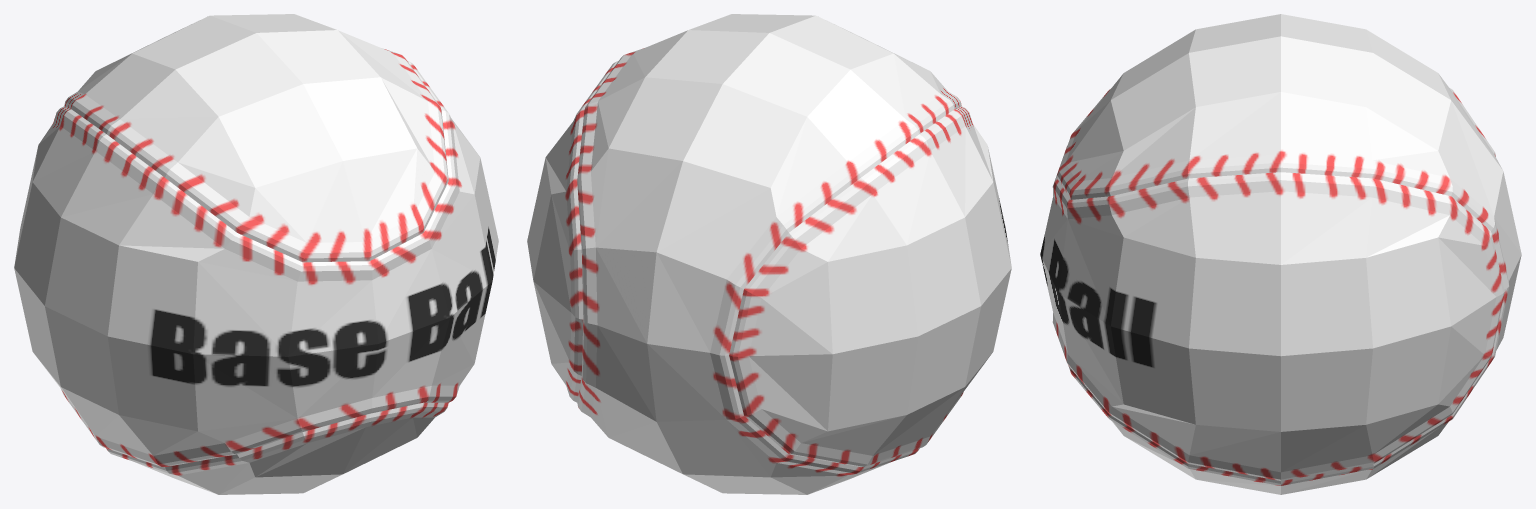
Rendered from BaseBall.fbx.
The picture shows the model from 3 angles, left to right: view 1: azimuth 30°, elevation 25°; view 2: azimuth 150°, elevation 25°; view 3: azimuth 270°, elevation 25°; orthographic projection.
Parts seen in each view (by area): view 1: Mesh; view 2: Mesh; view 3: Mesh.
Boxes of the visible parts, x1,y1,x2,y2 form: Mesh: (14,14,498,494); Mesh: (527,14,1011,494); Mesh: (1040,14,1521,494).
Bounding box in the file's own units: 7.3 × 7.3 × 7.3.
1 material, 1 textured.
